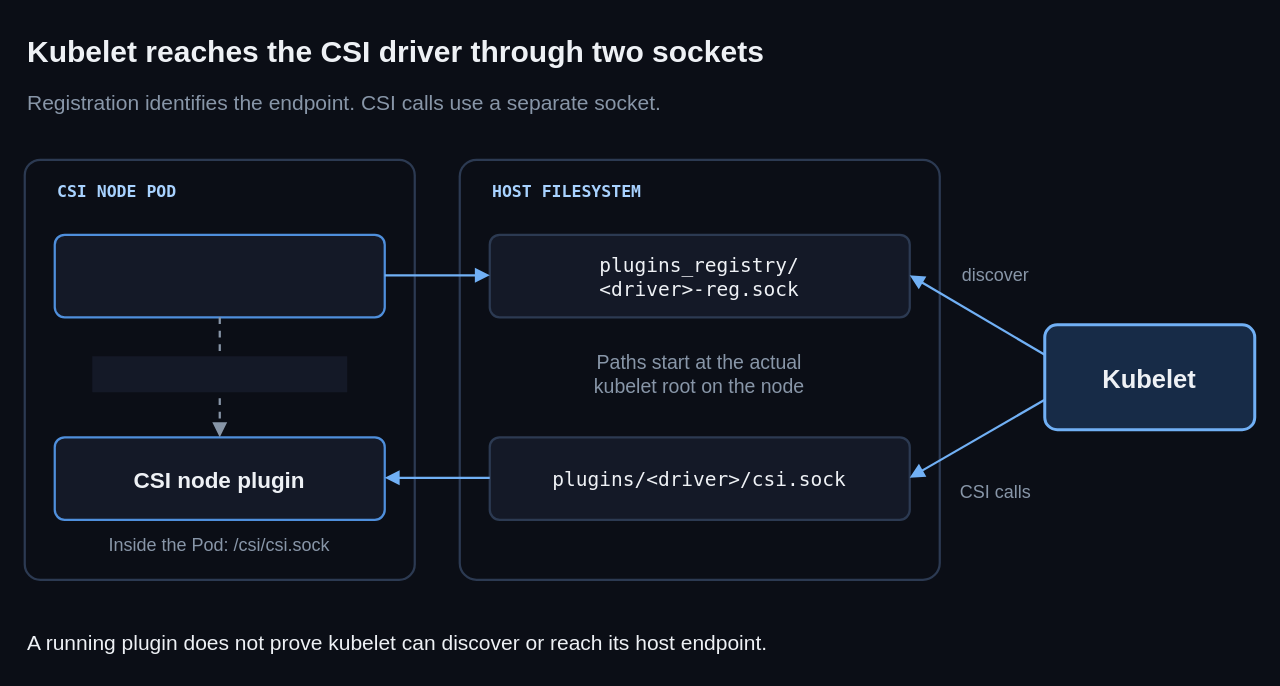
The diagram is 1280 pixels wide and 686 high, and some of its shapes have lost their labels. Here are the shapes that lost their labels. From the top down, the centre of each, then its label:
At pixel 219 275: "Node driver registrar".
At pixel 219 374: "read driver identity".
